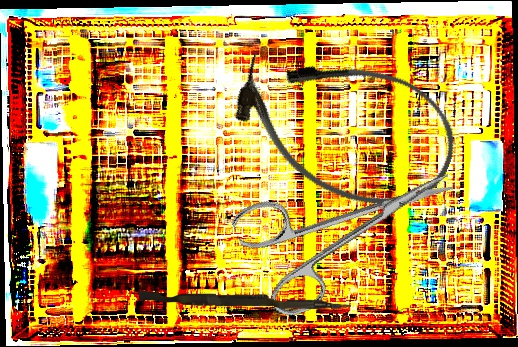Cannula: (217, 23, 473, 230)
Iris Scissors: (228, 129, 476, 326)
Pusher: (138, 291, 352, 310)
